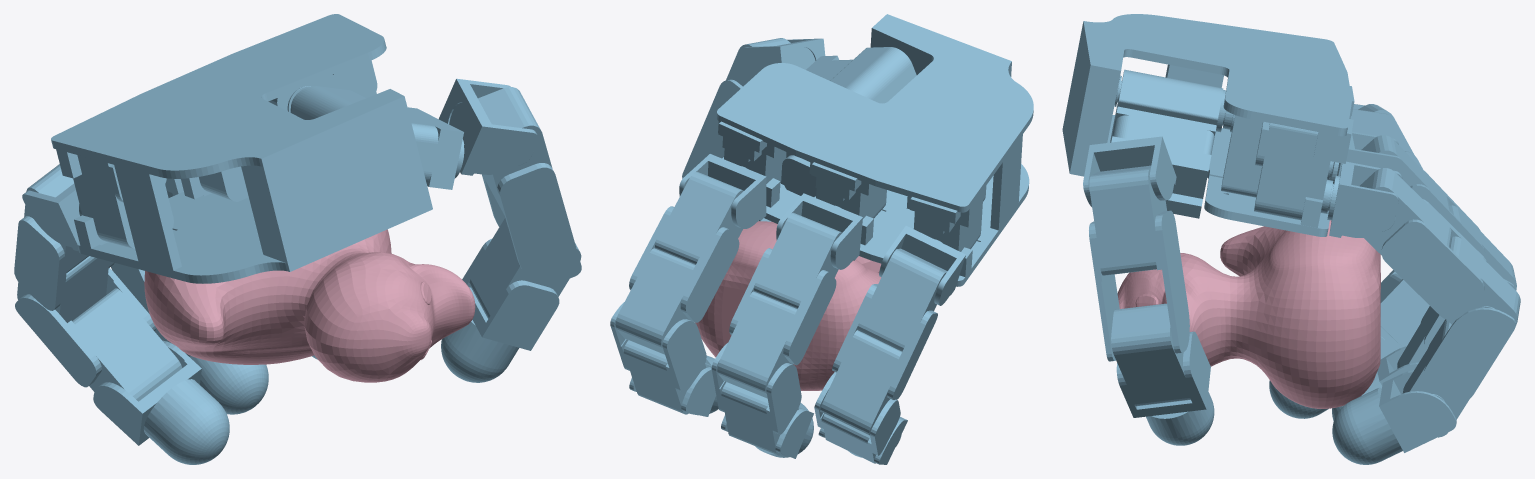
The picture shows the model from 3 angles, left to right: view 1: azimuth 30°, elevation 25°; view 2: azimuth 150°, elevation 25°; view 3: azimuth 270°, elevation 25°; orthographic projection. The views are drawn at different scales.
Visible parts, largest first — view 1: world; view 2: world; view 3: world.
Boxes of the visible parts, left/top/right/bottom form: world: left=14, top=14, right=581, bottom=464; world: left=610, top=14, right=1033, bottom=464; world: left=1062, top=14, right=1520, bottom=464.
Bounding box in the file's own units: 0.1615 × 0.1544 × 0.1626.
